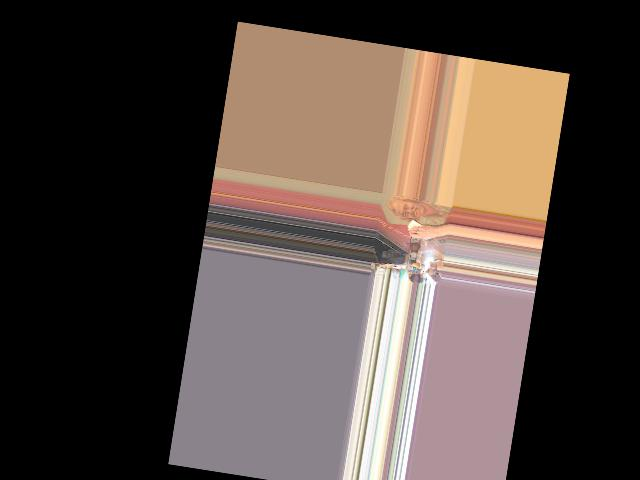beer: (406, 225, 422, 265)
